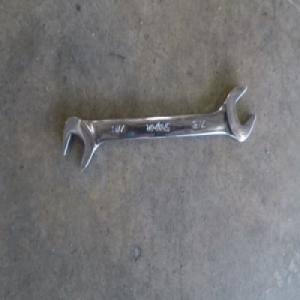Wrench: (63, 85, 254, 175)
